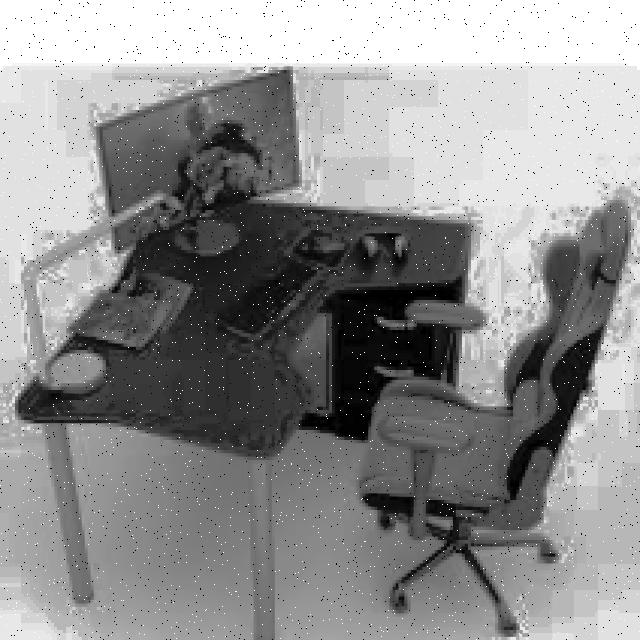book: (356, 197, 628, 633)
table: (12, 193, 471, 640)
